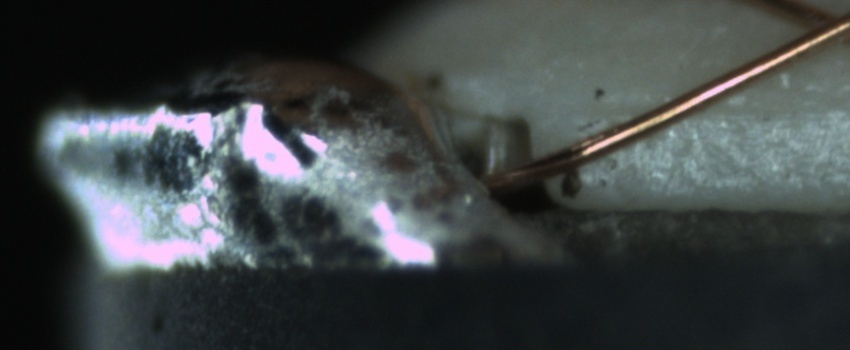CL: (778, 1, 848, 57)
DL: (607, 78, 850, 144)
